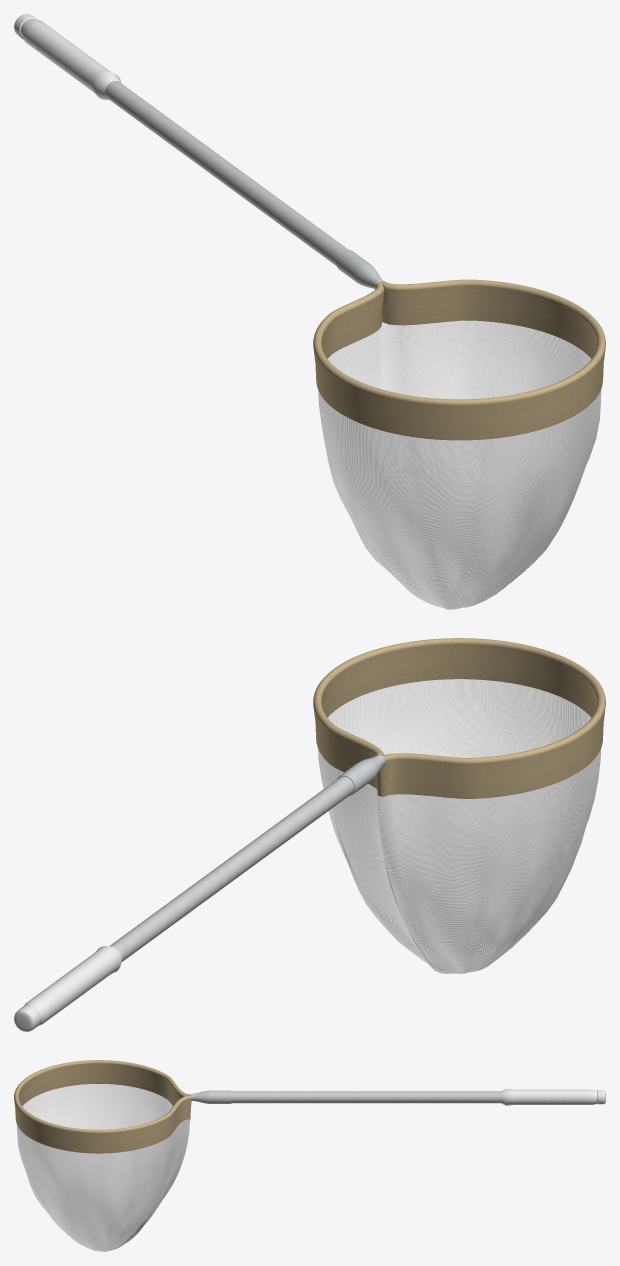
The model's file is net_fine.lod1.glb.
3 views of the same model, one above another, from view 1: azimuth 30°, elevation 25°; view 2: azimuth 150°, elevation 25°; view 3: azimuth 270°, elevation 25° (orthographic). The views are drawn at different scales.
Parts seen in each view (by area): view 1: Bag, Frame, Handle; view 2: Bag, Frame, Handle; view 3: Bag, Frame, Handle.
Boxes of the visible parts, <box> form: Bag: <box>318,320,601,609</box>; Frame: <box>313,249,605,440</box>; Handle: <box>14,14,348,265</box>; Bag: <box>318,679,601,973</box>; Frame: <box>313,638,605,798</box>; Handle: <box>14,776,354,1031</box>; Bag: <box>16,1084,189,1251</box>; Frame: <box>14,1060,231,1153</box>; Handle: <box>231,1089,605,1105</box>.
Size of the model in its own units: 0.2575 by 0.2684 by 0.8974.
5 materials, 5 textured.
